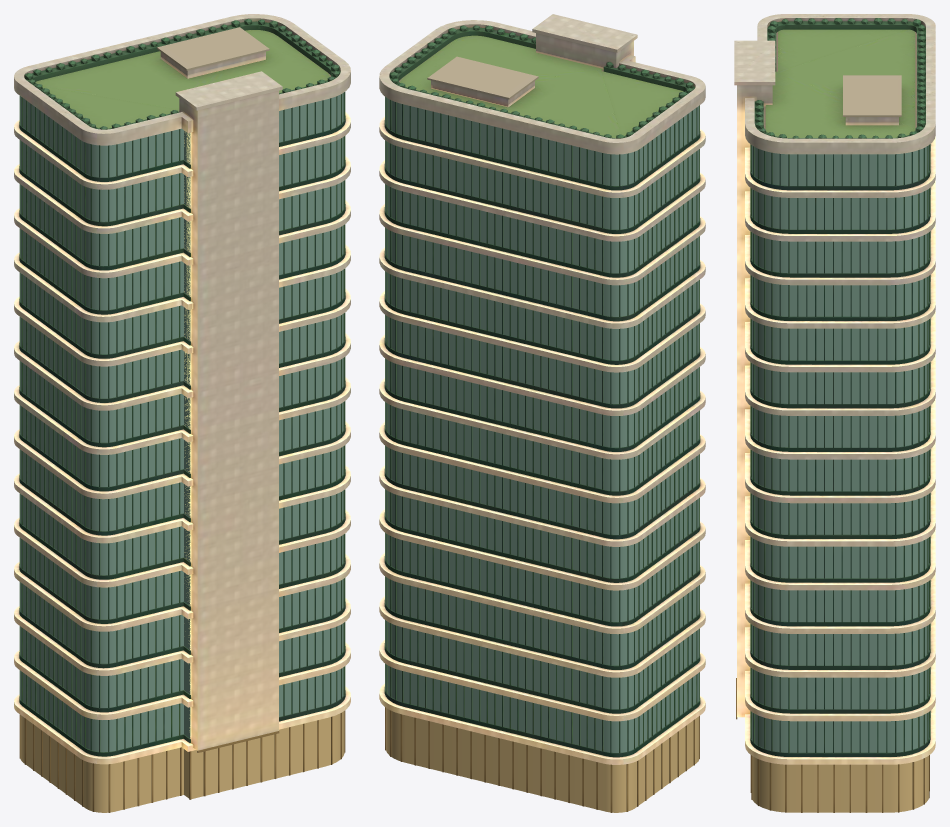
File: command-center.glb
3 renders of one model, left to right at view 1: azimuth 30°, elevation 25°; view 2: azimuth 150°, elevation 25°; view 3: azimuth 270°, elevation 25°, orthographic.
Parts seen in each view (by area): view 1: cc_stone, cc_glass, cc_frame, cc_lobby, cc_lawn, cc_hedge, cc_brass, cc_roof; view 2: cc_glass, cc_frame, cc_stone, cc_lobby, cc_lawn, cc_hedge, cc_brass, cc_roof; view 3: cc_glass, cc_stone, cc_frame, cc_lawn, cc_lobby, cc_hedge, cc_roof, cc_brass.
Boxes of the visible parts, <box> form: cc_stone: <box>14,14,350,764</box>; cc_glass: <box>20,93,343,752</box>; cc_frame: <box>19,92,345,756</box>; cc_lobby: <box>20,711,344,812</box>; cc_lawn: <box>35,30,329,128</box>; cc_hedge: <box>24,19,340,129</box>; cc_brass: <box>19,710,345,812</box>; cc_roof: <box>157,27,330,76</box>; cc_glass: <box>385,97,699,752</box>; cc_frame: <box>384,97,700,757</box>; cc_stone: <box>379,14,705,764</box>; cc_lobby: <box>386,708,699,812</box>; cc_lawn: <box>400,35,683,138</box>; cc_hedge: <box>389,25,694,138</box>; cc_brass: <box>385,707,699,812</box>; cc_roof: <box>399,43,603,99</box>; cc_glass: <box>752,145,928,752</box>; cc_stone: <box>734,14,935,764</box>; cc_frame: <box>750,144,930,756</box>; cc_lawn: <box>765,29,915,137</box>; cc_lobby: <box>752,756,928,812</box>; cc_hedge: <box>754,18,925,138</box>; cc_roof: <box>763,31,916,130</box>; cc_brass: <box>736,678,929,812</box>.
Size of the model in its own units: 1.71 by 4.27 by 1.13.
8 materials, 6 textured.
